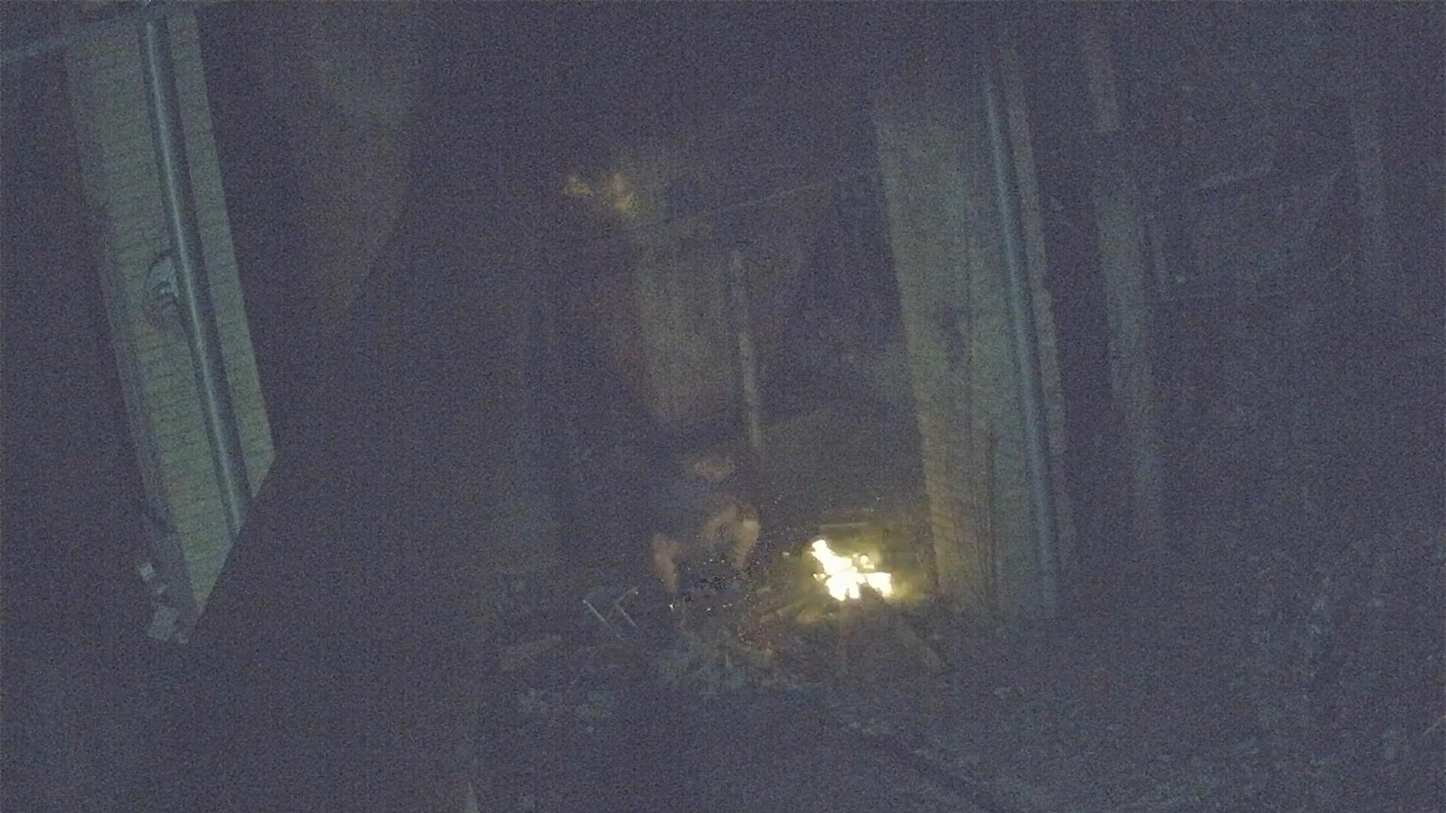fire: (809, 539, 894, 603)
